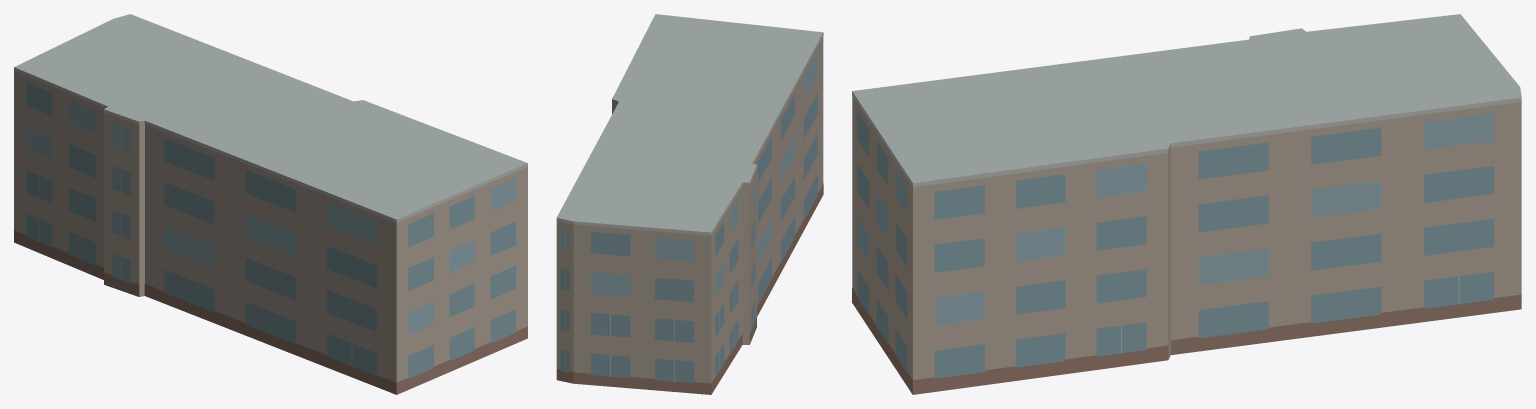
File: survey-upis-32629833.glb
3 renders of one model, left to right at view 1: azimuth 30°, elevation 25°; view 2: azimuth 150°, elevation 25°; view 3: azimuth 270°, elevation 25°, orthographic. The views are drawn at different scales.
Parts seen in each view (by area): view 1: survey-upis-32629833.tmp; view 2: survey-upis-32629833.tmp; view 3: survey-upis-32629833.tmp.
Boxes of the visible parts, x1=… form: survey-upis-32629833.tmp: x1=14, y1=14, x2=527, y2=394; survey-upis-32629833.tmp: x1=556, y1=14, x2=823, y2=394; survey-upis-32629833.tmp: x1=852, y1=14, x2=1521, y2=394.
Bounding box in the file's own units: 20.91 × 12.2 × 34.97.
